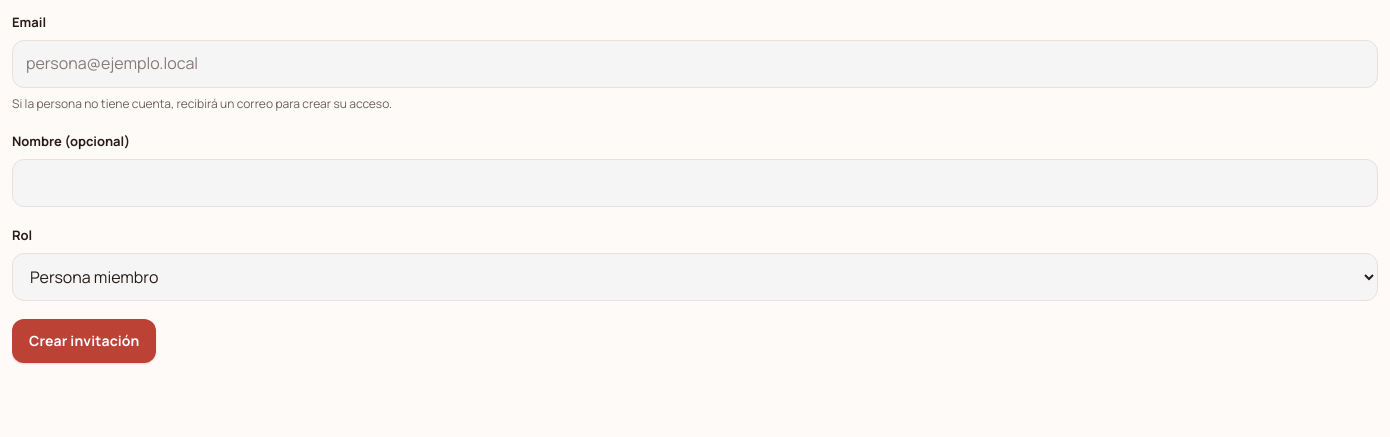
Scenario: InvitationForm › shows the failed delivery message
In the field labelled "Email": (695, 64) [12,40,1378,88], type "invitee@example.test"
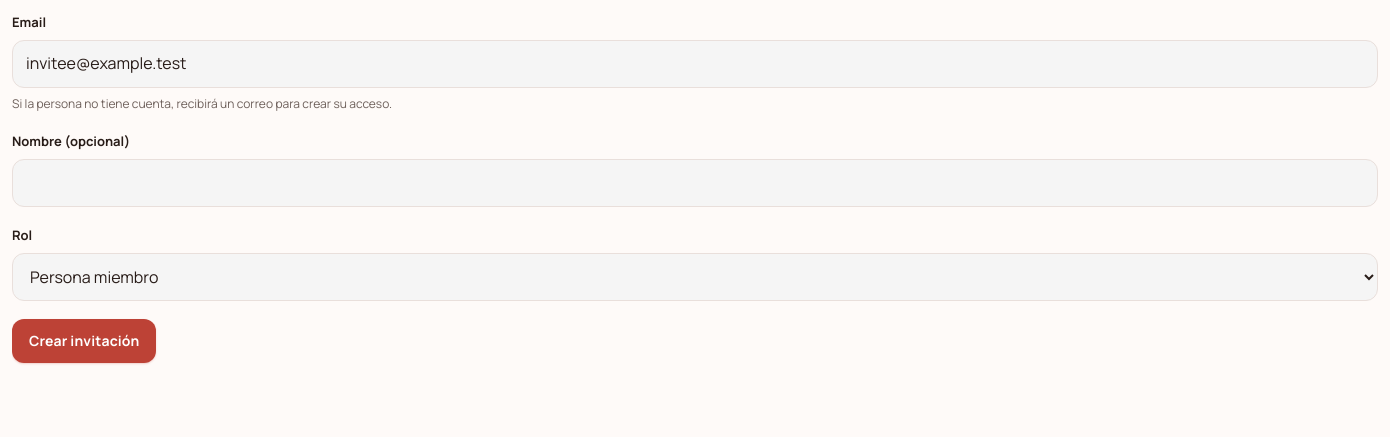
Submit the form named "Invitar a una persona al hogar"
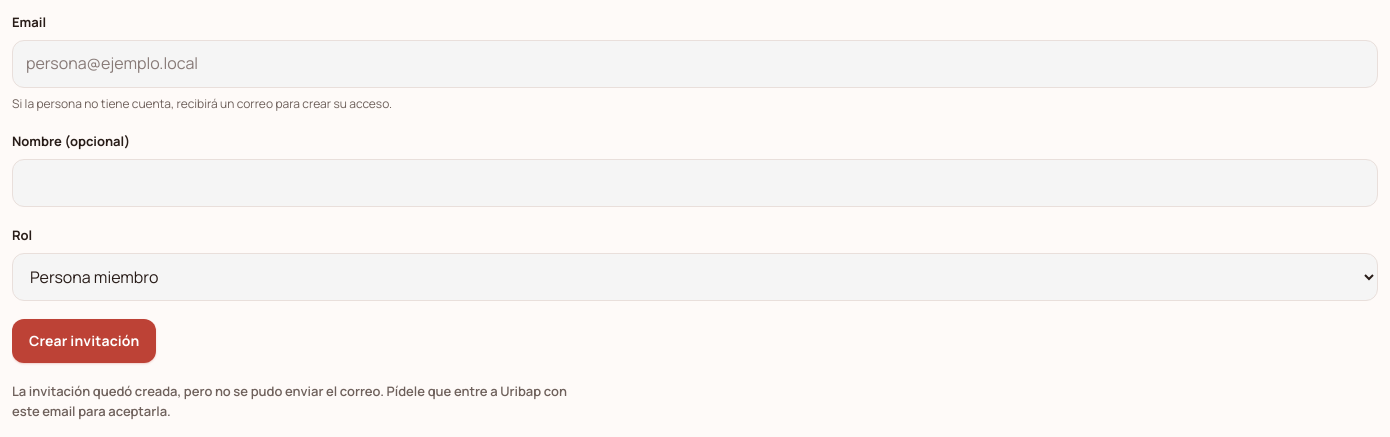
Now the message shows "La invitación quedó creada, pero no se pudo enviar el correo. Pídele que entre a Uribap con este email para aceptarla.", box [12,382,567,420]
